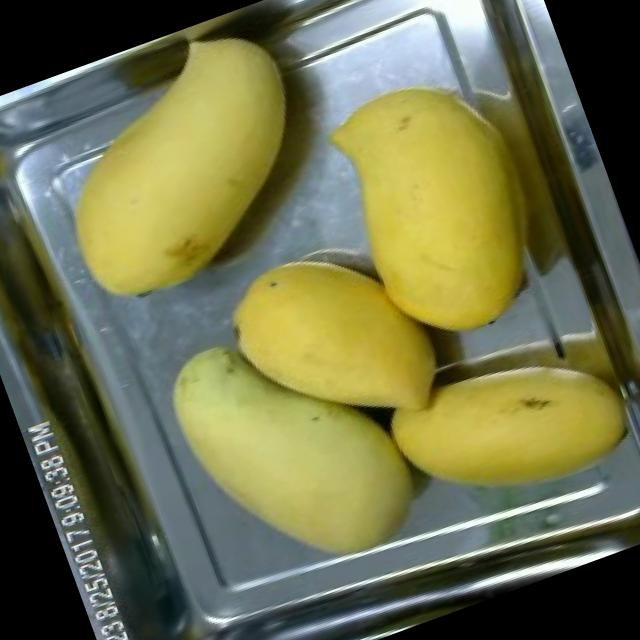fruit: (0, 2, 356, 338), (144, 286, 440, 610), (302, 41, 584, 369), (207, 213, 455, 466), (371, 319, 640, 542)
